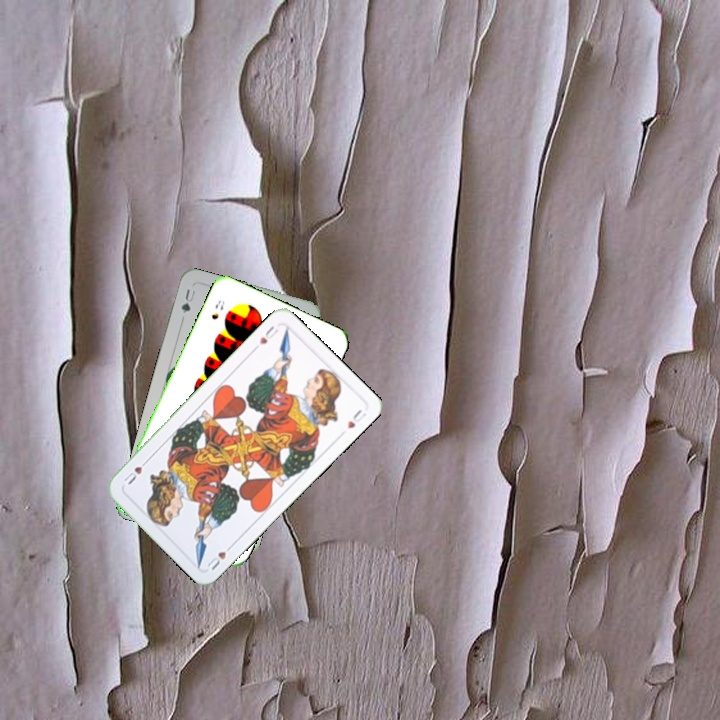GU: (177, 285, 198, 316)
HU: (202, 540, 236, 573), (255, 322, 281, 348)
S8: (207, 296, 227, 322)
